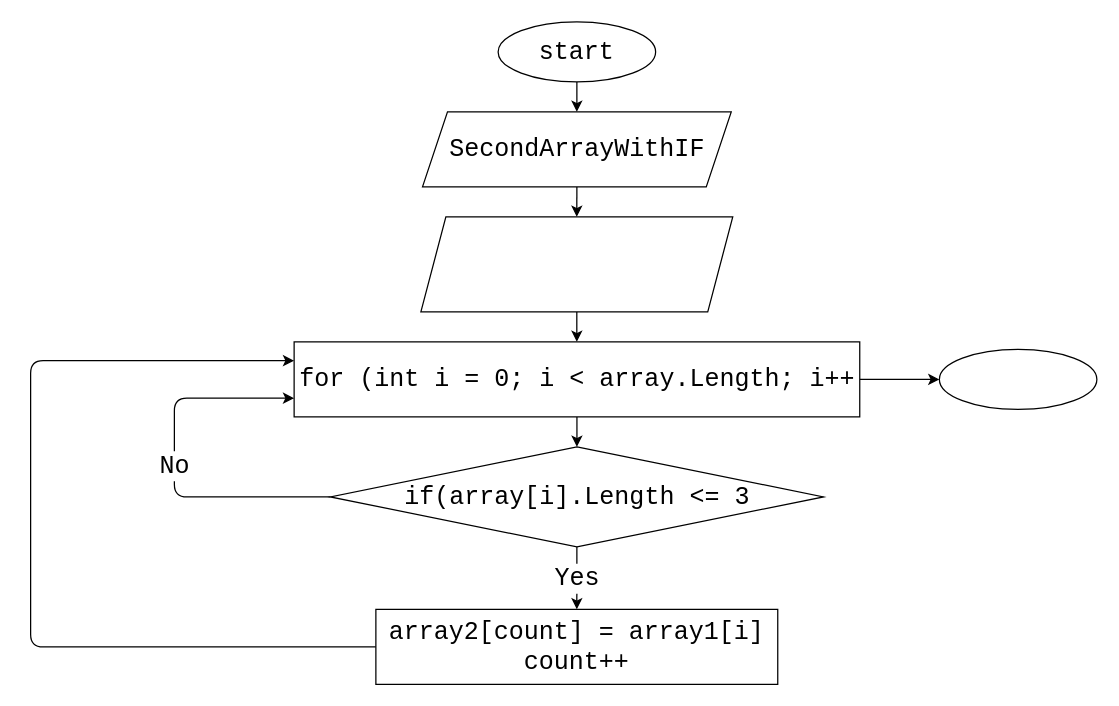
The diagram is 1119 pixels wide and 706 high, and some of its shapes have lost their labels. The centre of each missing label's shape, as x and y in pixels:
"end" belongs at point (1017, 378).
"string[] array1 string[] array2 int count = 0" belongs at point (576, 264).
